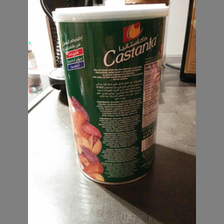nuts: (51, 3, 171, 186)
